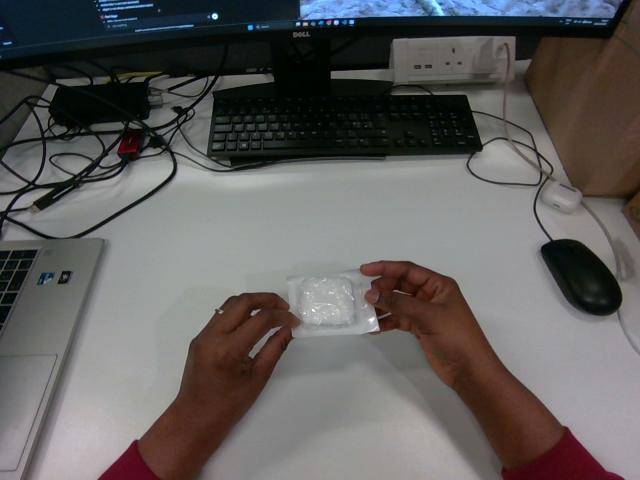gauze: (287, 270, 378, 336)
